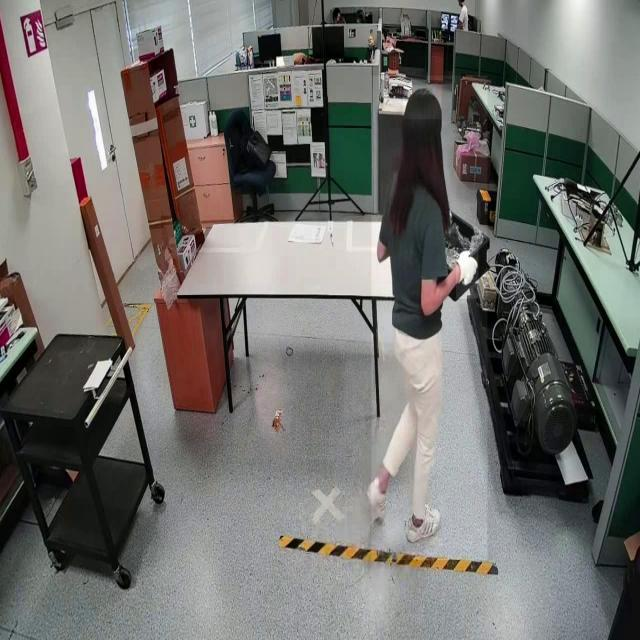hand_glove: (456, 248, 478, 299)
head_nohelmet: (403, 85, 442, 120)
person: (372, 75, 488, 561)
shoes: (402, 500, 442, 543), (366, 474, 389, 522)
